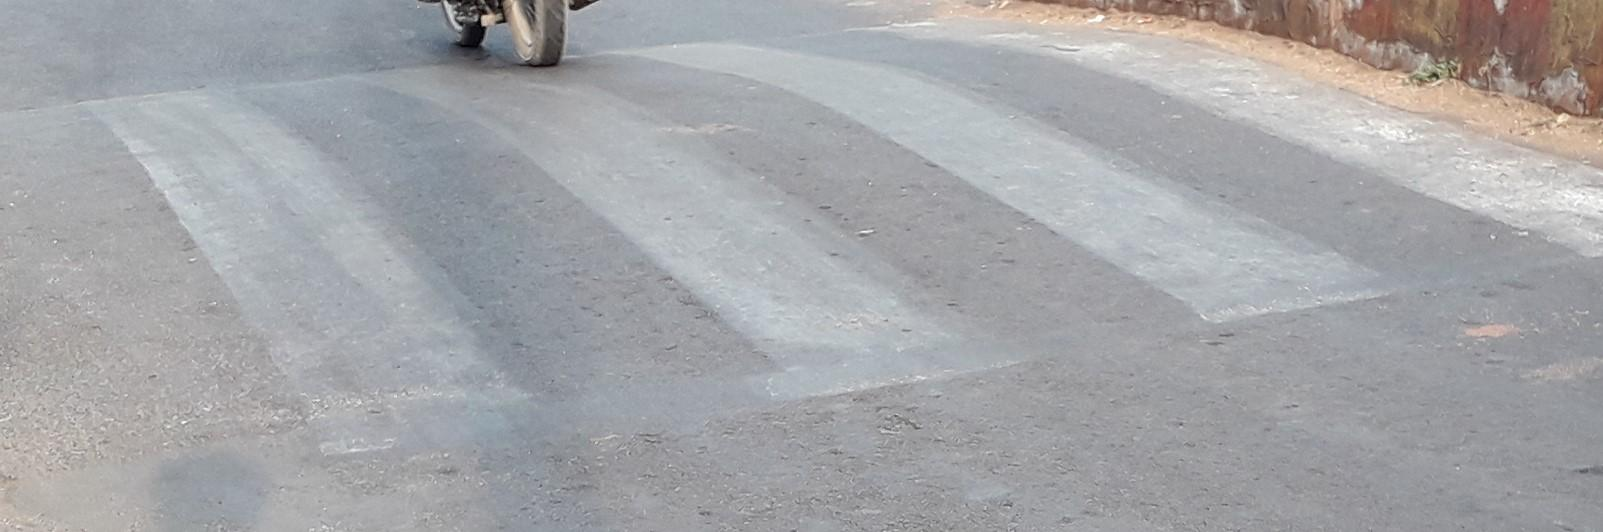speed-bump: (1, 13, 1598, 479)
